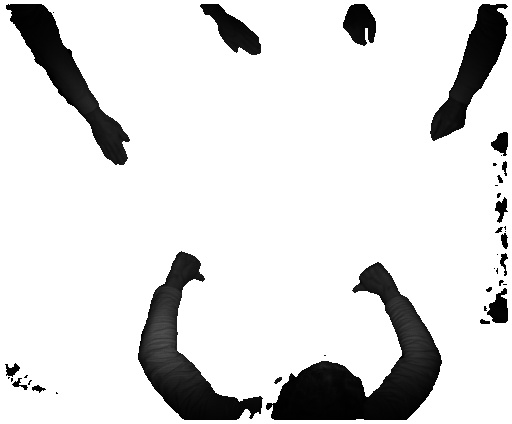hand: (91, 116, 135, 167), (352, 256, 396, 301), (219, 18, 263, 55), (424, 104, 465, 143), (169, 248, 207, 290), (336, 8, 375, 47)
